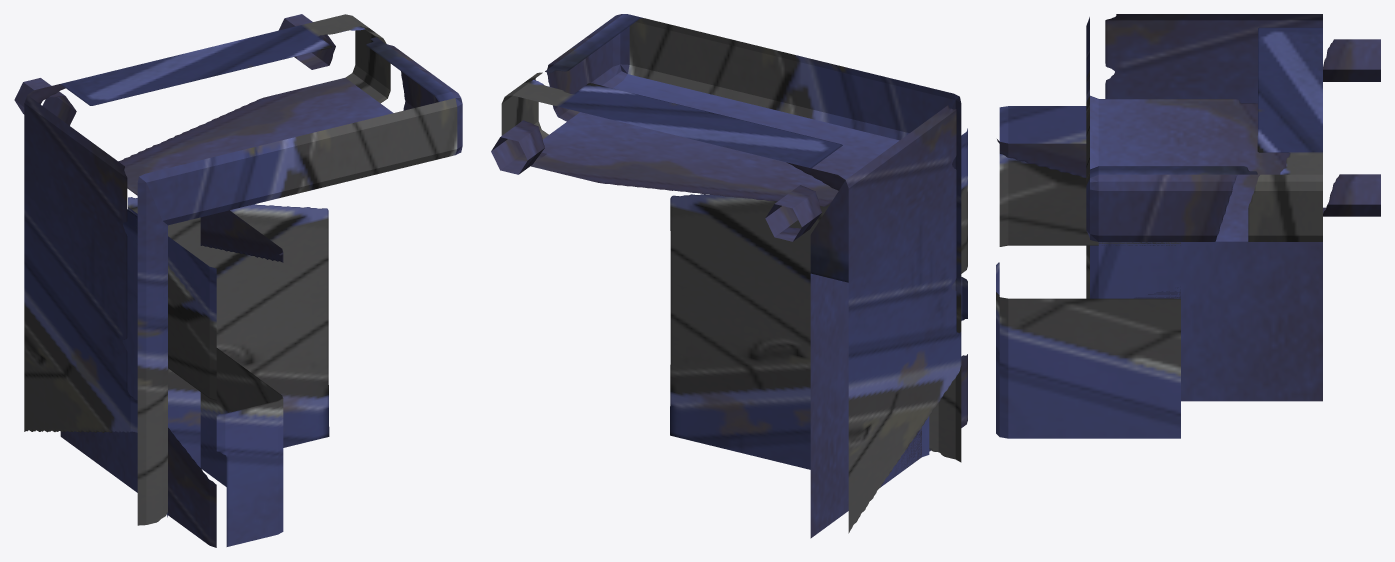
3 views of the same model, side by side, from view 1: azimuth 30°, elevation 25°; view 2: azimuth 150°, elevation 25°; view 3: azimuth 270°, elevation 25° (orthographic). The views are drawn at different scales.
Size of the model in its own units: 0.8199 by 0.8358 by 0.7807.
